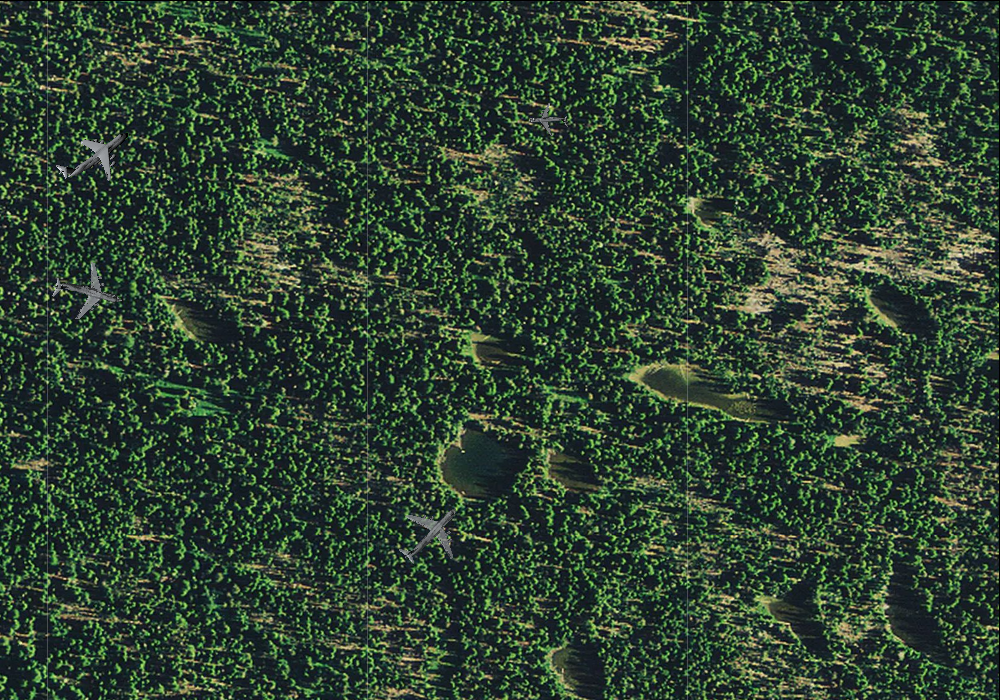plane: (42, 103, 145, 204), (381, 484, 479, 583), (44, 251, 129, 334), (527, 100, 569, 140)
